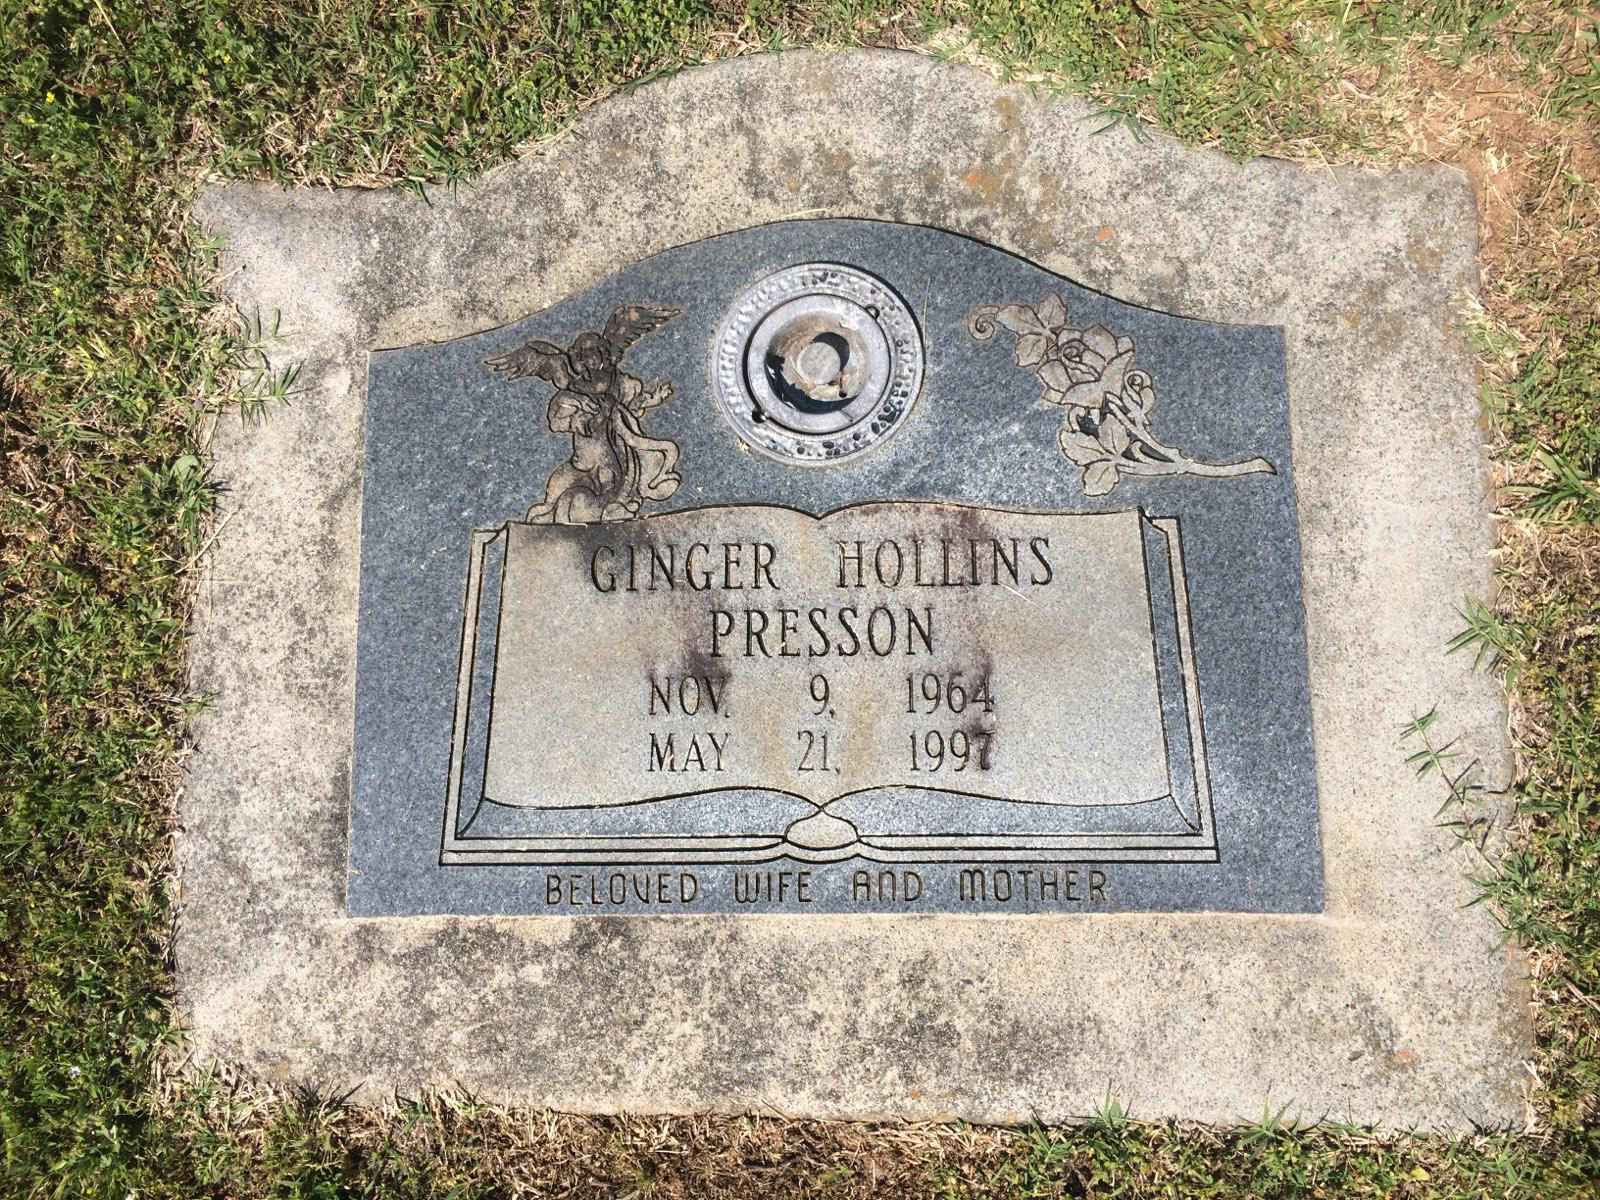flat: (164, 40, 1534, 1147)
